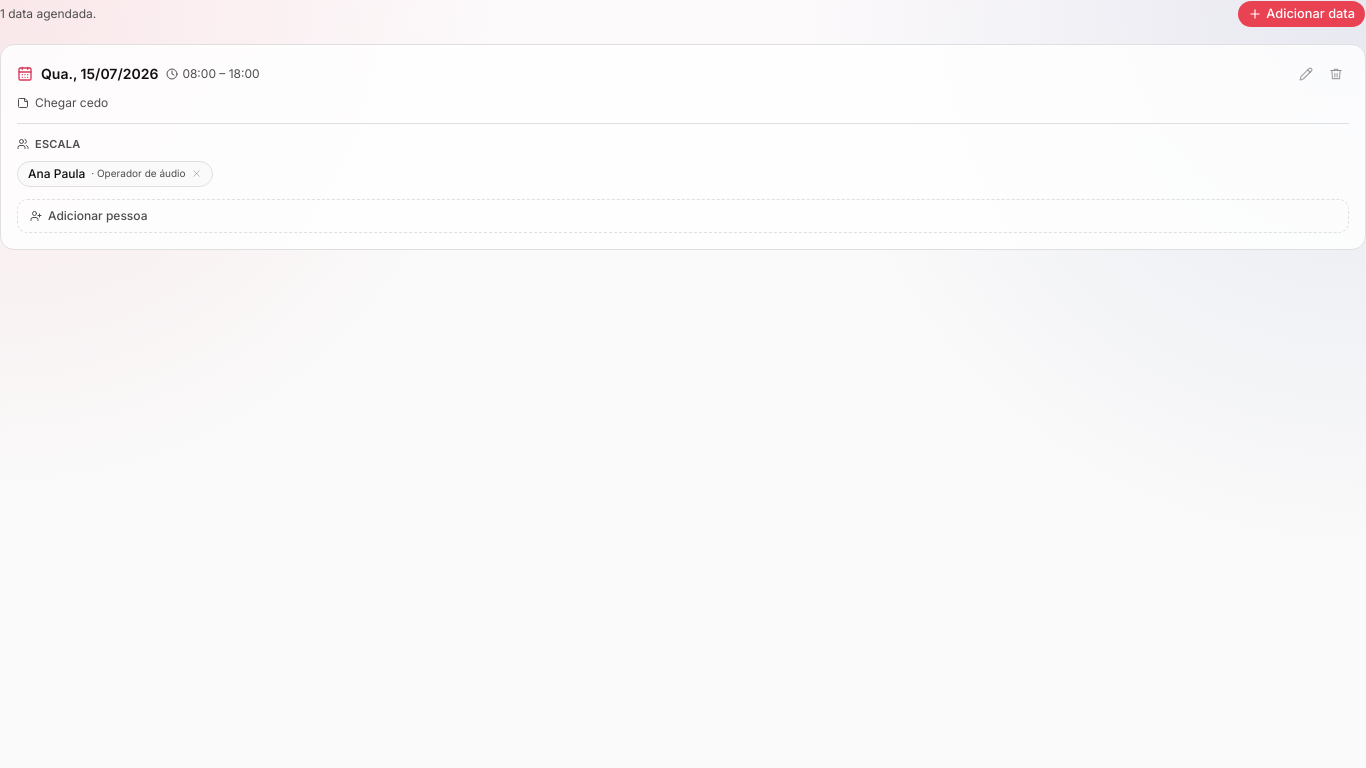
EventDatesPanel › abre o diálogo de remover pessoa da escala
Note: O botão de remover pessoa tem title "Remover".
Click the button titled "Remover" at [197, 174], box x1=192 y1=168 x2=202 y2=179
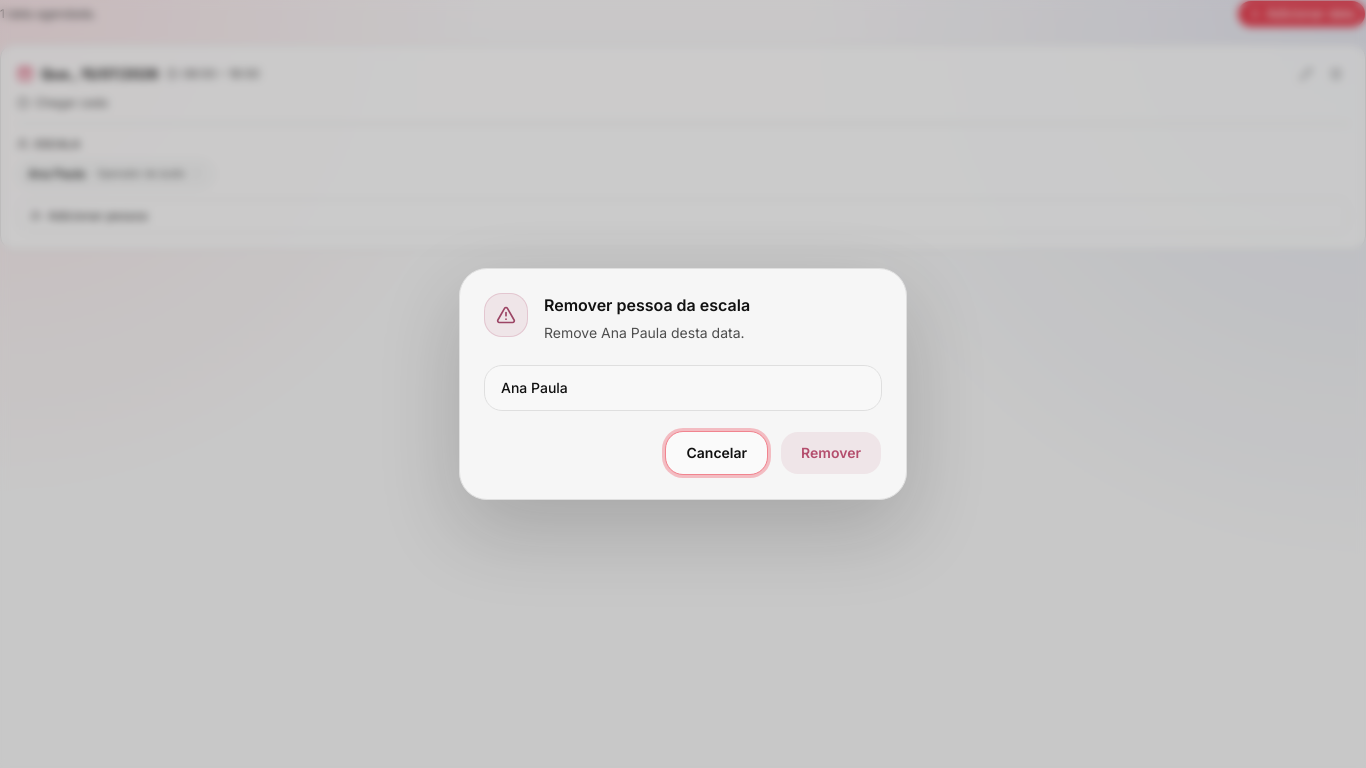
expect the heading "Remover pessoa da escala" is shown: met, box x1=544 y1=293 x2=750 y2=317
expect the button "Remover" is shown: met, box x1=780 y1=431 x2=882 y2=475
